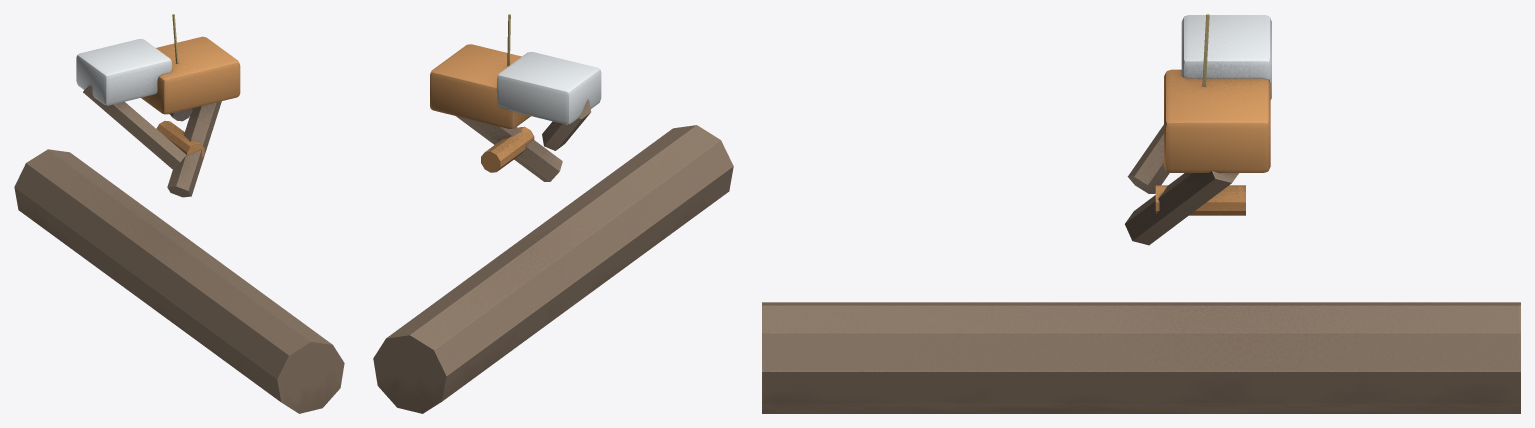
File: beacon_komar.glb
3 views of the same model, side by side, from view 1: azimuth 30°, elevation 25°; view 2: azimuth 150°, elevation 25°; view 3: azimuth 270°, elevation 25° (orthographic). The views are drawn at different scales.
Visible parts, largest first — view 1: beacon_komar; view 2: beacon_komar; view 3: beacon_komar.
Boxes of the visible parts, left/top/right/bottom form: beacon_komar: left=14, top=14, right=344, bottom=413; beacon_komar: left=373, top=14, right=733, bottom=413; beacon_komar: left=762, top=14, right=1520, bottom=413.
Size of the model in its own units: 0.9716 by 1.88 by 3.2.
Materials: 1 (1 with a texture image).
